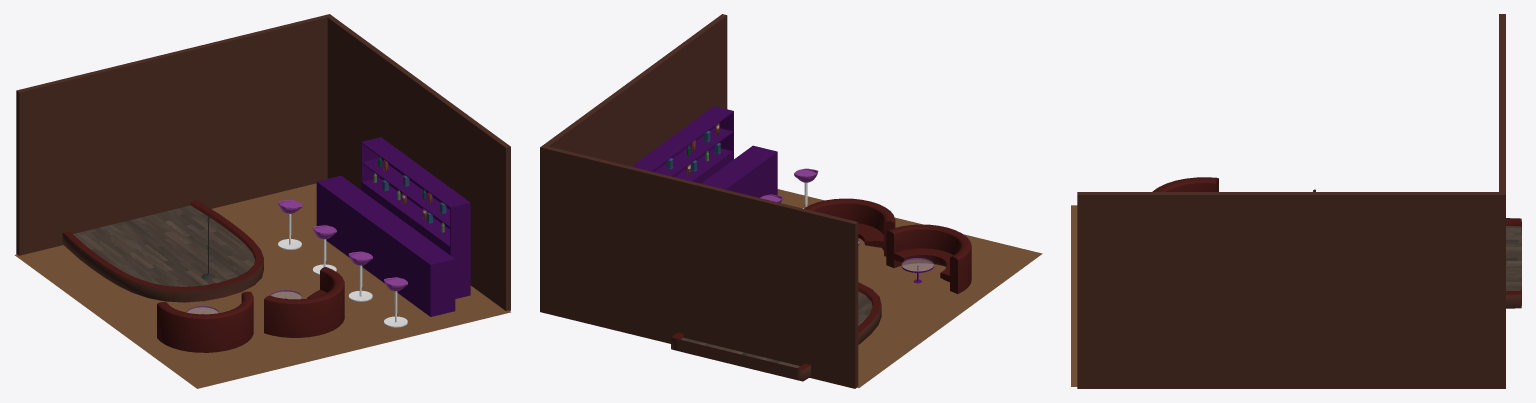
The model's file is Bar-2-env.fbx.
The picture shows the model from 3 angles, left to right: view 1: azimuth 30°, elevation 25°; view 2: azimuth 150°, elevation 25°; view 3: azimuth 270°, elevation 25°; orthographic projection. The views are drawn at different scales.
Visible parts, largest first — view 1: Cube, Plane.007, Cube.008, Sphere.001, Cube.016, Cube.021, Cylinder.007, Cylinder.002, Plane.010, Plane.011, Plane.009, Plane.008; view 2: Cube, Cube.008, Plane.007, Cube.021, Cylinder.007, Sphere.001, Cube.016, Cylinder.002, Cylinder.006; view 3: Cube.008, Cube, Sphere.001, Plane.007, Cylinder.007.
Part boxes in pixels (x1=…): Cube: x1=16, y1=14, x2=332, y2=255; Plane.007: x1=14, y1=183, x2=510, y2=388; Cube.008: x1=327, y1=16, x2=510, y2=310; Sphere.001: x1=62, y1=200, x2=263, y2=302; Cube.016: x1=316, y1=175, x2=455, y2=316; Cube.021: x1=361, y1=137, x2=470, y2=298; Cylinder.007: x1=157, y1=291, x2=253, y2=352; Cylinder.002: x1=264, y1=267, x2=344, y2=337; Plane.010: x1=384, y1=277, x2=407, y2=327; Plane.011: x1=348, y1=251, x2=372, y2=301; Plane.009: x1=278, y1=199, x2=302, y2=249; Plane.008: x1=312, y1=225, x2=336, y2=274; Cube: x1=540, y1=145, x2=858, y2=388; Cube.008: x1=543, y1=14, x2=727, y2=166; Plane.007: x1=777, y1=189, x2=1042, y2=387; Cube.021: x1=631, y1=106, x2=733, y2=183; Cylinder.007: x1=886, y1=224, x2=971, y2=293; Sphere.001: x1=671, y1=282, x2=881, y2=381; Cube.016: x1=701, y1=145, x2=777, y2=197; Cylinder.002: x1=804, y1=198, x2=895, y2=256; Cylinder.006: x1=901, y1=258, x2=933, y2=283; Cube.008: x1=1077, y1=192, x2=1505, y2=388; Cube: x1=1499, y1=14, x2=1505, y2=388; Sphere.001: x1=1506, y1=218, x2=1521, y2=308; Plane.007: x1=1071, y1=205, x2=1077, y2=386; Cylinder.007: x1=1152, y1=177, x2=1218, y2=191.
Bounding box in the file's own units: 442 × 219 × 461.
